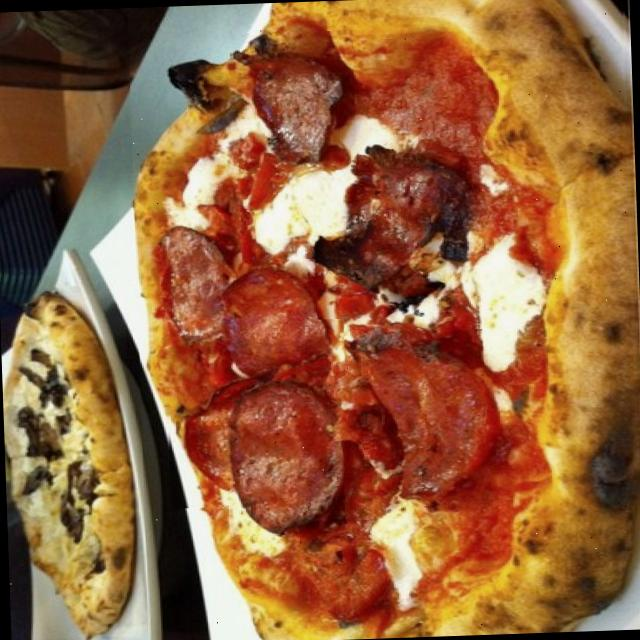pepperoni: (311, 126, 449, 318), (362, 328, 488, 507), (226, 378, 345, 536), (209, 256, 345, 391), (231, 29, 357, 172), (147, 210, 259, 354), (168, 382, 260, 508)
pizza: (134, 0, 639, 639), (3, 292, 131, 636)
